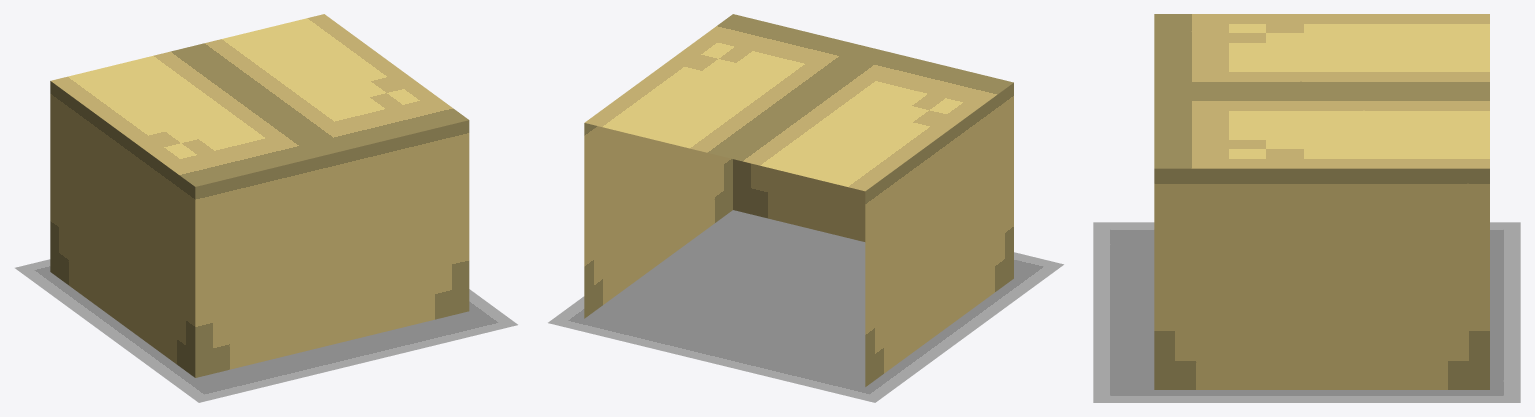
3 views of the same model, side by side, from view 1: azimuth 30°, elevation 25°; view 2: azimuth 150°, elevation 25°; view 3: azimuth 270°, elevation 25° (orthographic). The views are drawn at different scales.
Visible parts, largest first — view 1: polygon0, polygon1; view 2: polygon0, polygon1; view 3: polygon0, polygon1.
Part boxes in pixels (box(x1,y1,x2,y2)): polygon0: box(50, 14, 469, 377); polygon1: box(15, 259, 517, 402); polygon0: box(584, 14, 1013, 386); polygon1: box(548, 210, 1063, 402); polygon0: box(1154, 14, 1489, 389); polygon1: box(1093, 222, 1520, 402).
Size of the model in its own units: 7 by 4 by 7.
